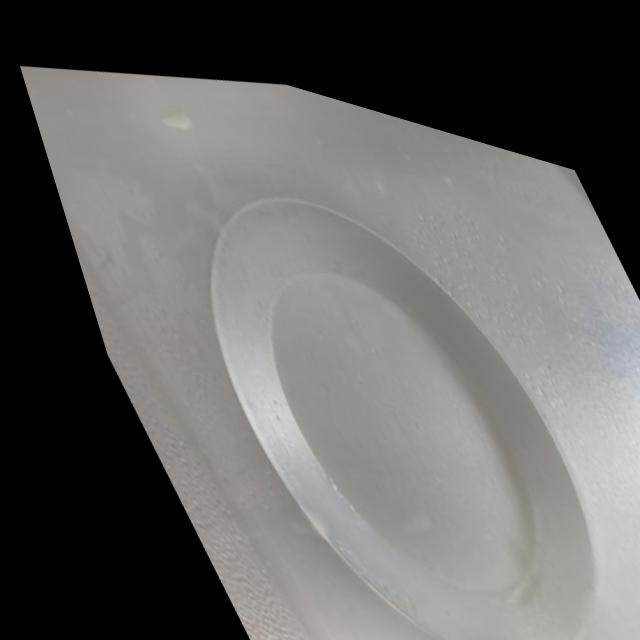plastic: (71, 70, 640, 640)
